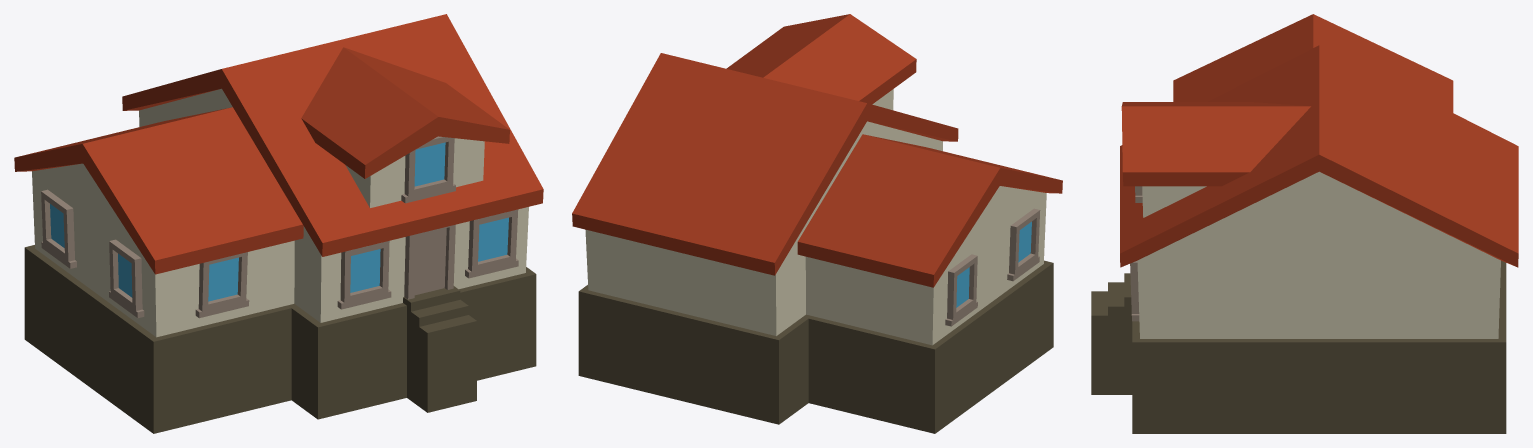
Rendered from House.fbx.
3 renders of one model, left to right at view 1: azimuth 30°, elevation 25°; view 2: azimuth 150°, elevation 25°; view 3: azimuth 270°, elevation 25°, orthographic. The views are drawn at different scales.
Visible parts, largest first — view 1: House, Base, House_, Roof_Window, Windows, Door; view 2: House, Base, House_, Roof_Window, Windows; view 3: House, House_, Base, Roof_Window, Door, Windows.
Boxes of the visible parts, bbox=[...] form: House: bbox=[14, 14, 543, 274]; Base: bbox=[24, 245, 536, 433]; House_: bbox=[32, 88, 528, 337]; Roof_Window: bbox=[301, 47, 509, 207]; Windows: bbox=[41, 189, 518, 318]; Door: bbox=[403, 224, 476, 412]; House: bbox=[572, 53, 1062, 287]; Base: bbox=[578, 260, 1053, 433]; House_: bbox=[585, 121, 1046, 345]; Roof_Window: bbox=[726, 14, 916, 110]; Windows: bbox=[945, 208, 1040, 326]; House: bbox=[1120, 14, 1518, 267]; House_: bbox=[1137, 171, 1500, 338]; Base: bbox=[1132, 260, 1506, 433]; Roof_Window: bbox=[1121, 102, 1310, 217]; Door: bbox=[1091, 273, 1132, 394]; Windows: bbox=[1130, 261, 1139, 321].
Size of the model in its own units: 167 by 169 by 123.
